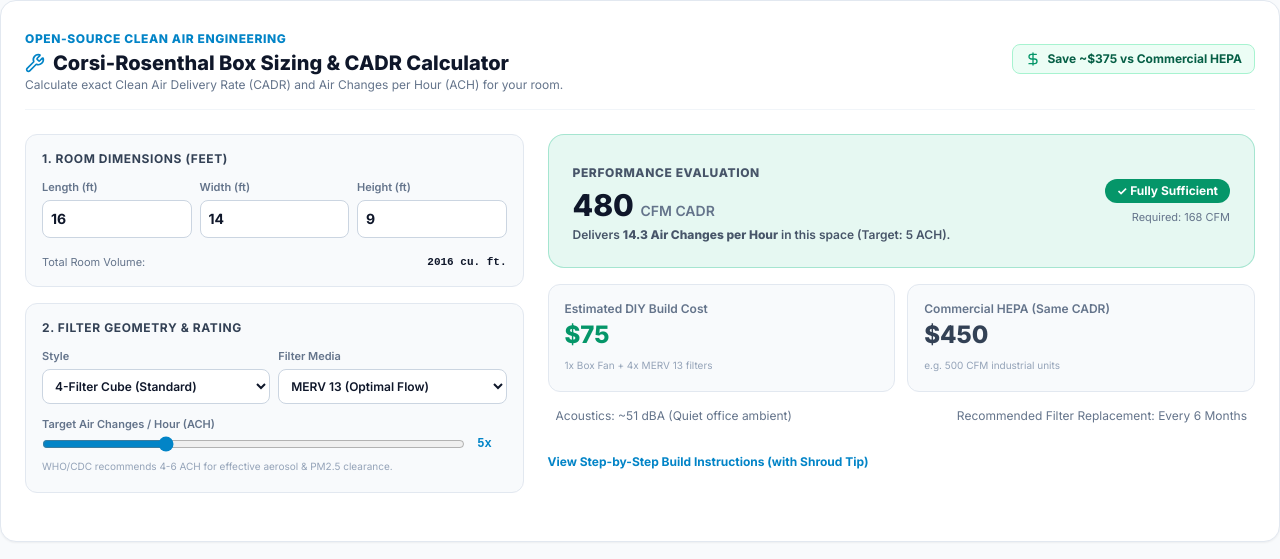
CorsiRosenthalCalculator Component › switches filter media to MERV 14 and updates CADR accounting for static drop
Select "MERV 14 (Ultra Fine PM)" in the dropdown labelled "Filter Media": (392, 386) [278,368,507,404]
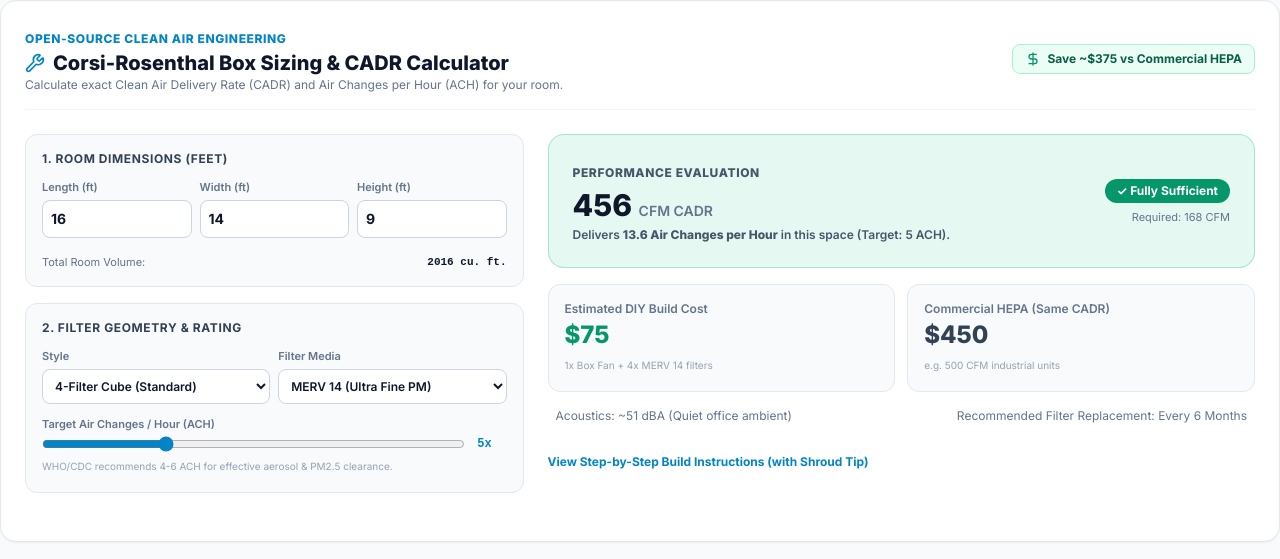
Check: the text "456" is shown, box [572,187,632,223]
